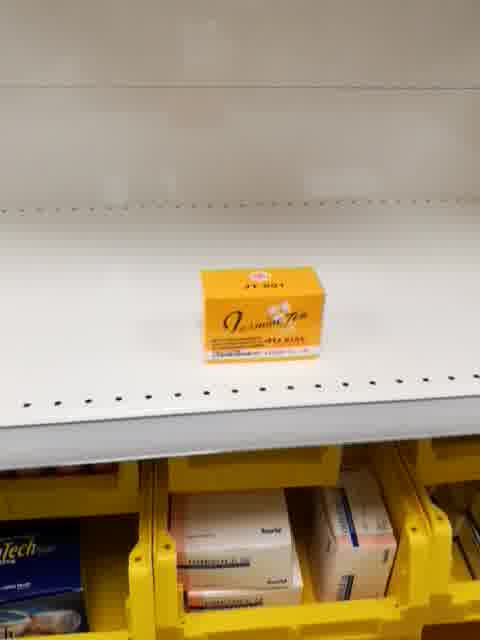jasminetea: (198, 261, 326, 368)
